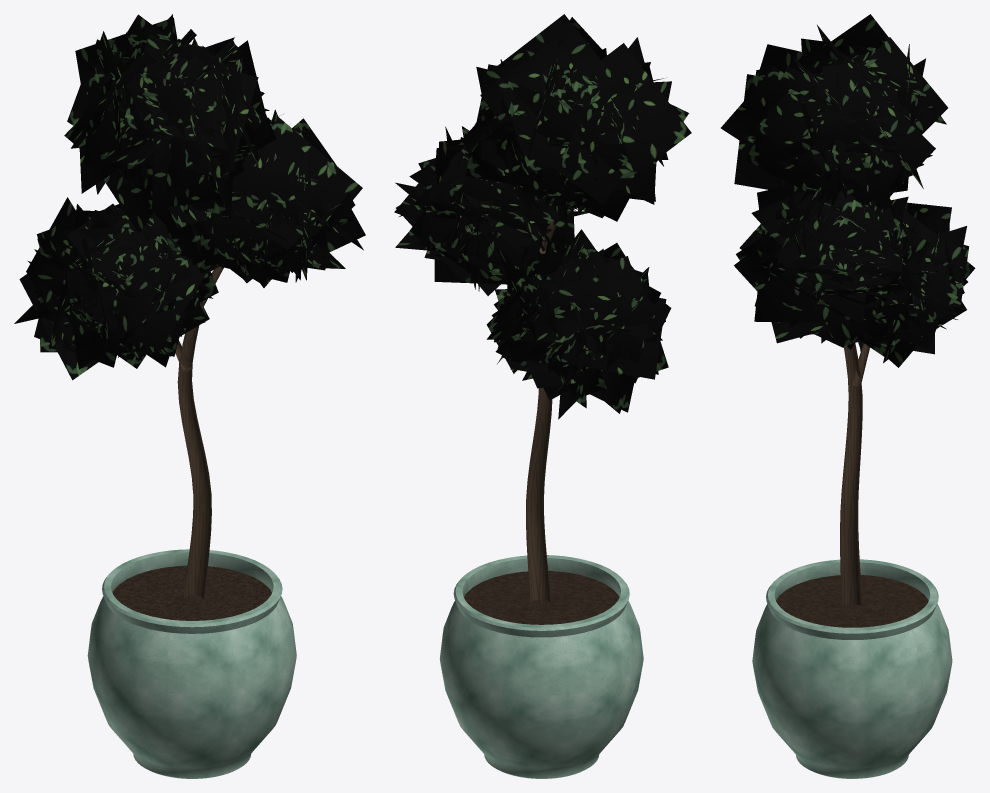
The model's file is potted_tree.glb.
3 renders of one model, left to right at view 1: azimuth 30°, elevation 25°; view 2: azimuth 150°, elevation 25°; view 3: azimuth 270°, elevation 25°, orthographic. The views are drawn at different scales.
Parts seen in each view (by area): view 1: part_pot_LOD0, part_canopy_1_LOD0, part_canopy_3_LOD0, part_canopy_2_LOD0, part_soil_LOD0, part_trunk_LOD0; view 2: part_canopy_1_LOD0, part_pot_LOD0, part_canopy_3_LOD0, part_canopy_2_LOD0, part_soil_LOD0, part_trunk_LOD0; view 3: part_pot_LOD0, part_canopy_1_LOD0, part_canopy_2_LOD0, part_canopy_3_LOD0, part_soil_LOD0, part_trunk_LOD0.
Part boxes in pixels (box(x1,y1,x2,y2)): part_pot_LOD0: box(87, 549, 296, 778); part_canopy_1_LOD0: box(64, 14, 278, 233); part_canopy_3_LOD0: box(14, 197, 218, 380); part_canopy_2_LOD0: box(166, 109, 365, 287); part_soil_LOD0: box(112, 565, 271, 620); part_trunk_LOD0: box(175, 266, 223, 599); part_canopy_1_LOD0: box(462, 14, 691, 225); part_pot_LOD0: box(439, 555, 643, 778); part_canopy_3_LOD0: box(486, 229, 671, 419); part_canopy_2_LOD0: box(394, 126, 588, 295); part_soil_LOD0: box(464, 571, 619, 624); part_trunk_LOD0: box(526, 219, 556, 604); part_pot_LOD0: box(752, 559, 952, 778); part_canopy_1_LOD0: box(721, 14, 947, 208); part_canopy_2_LOD0: box(734, 184, 939, 347); part_canopy_3_LOD0: box(821, 199, 975, 367); part_soil_LOD0: box(776, 575, 928, 627); part_trunk_LOD0: box(840, 343, 869, 607).
Size of what is drawn, in the model's own units: 1.04 by 2.45 by 0.8026.
Materials: 5 (5 with a texture image).
